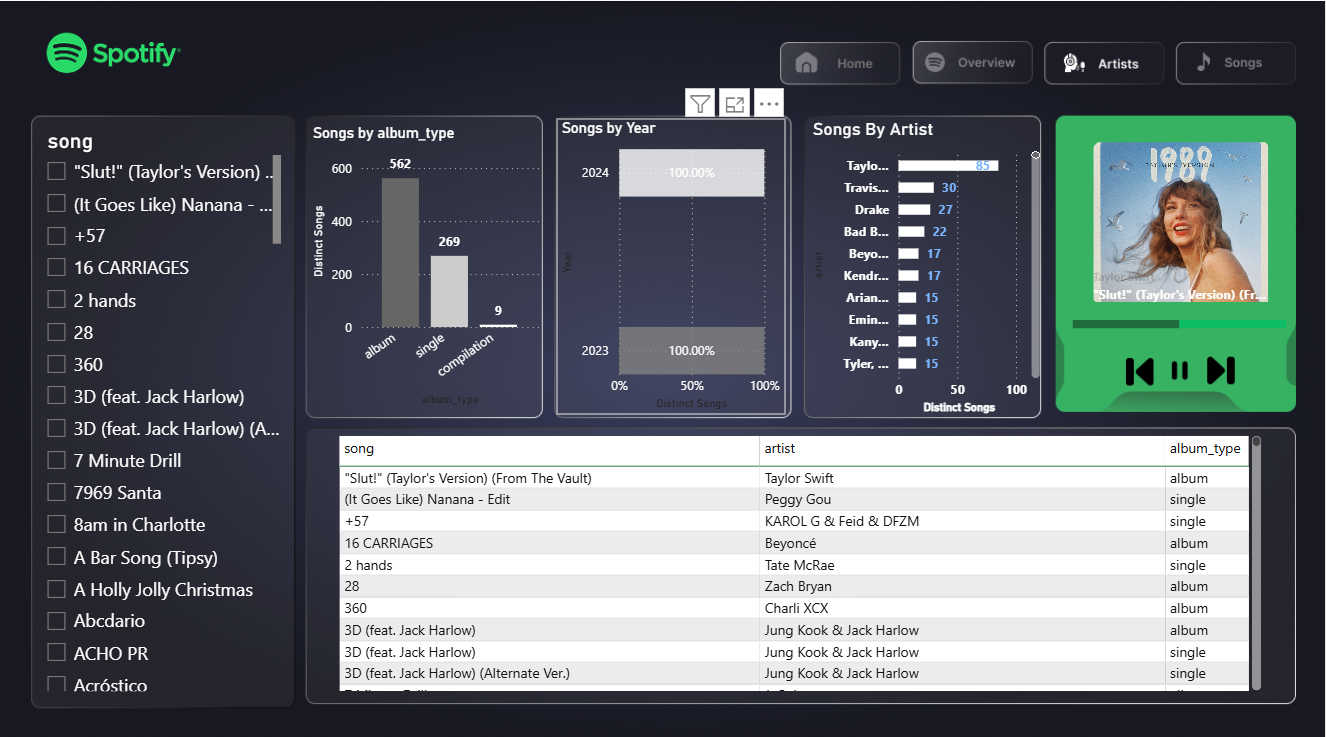

The page's visual inventory and layout, read from the dashboard file:
{"tool":"powerbi","page":{"name":"Song","canvas":[1280,720],"ordinal":2},"visuals":[{"type":"slicer","fields":{"Values":["Top-50-World.song"]},"box":[33.4,118.7,243.7,552.9],"z":0},{"type":"advancedSlicerVisual","title":"Song And Artist","fields":{"Values":["Top-50-World.song"]},"box":[1010,110.3,261.8,207.5],"z":1000},{"type":"hundredPercentStackedBarChart","fields":{"Y":["_Measures.Average Popularity","Avg(Top-50-World.popularity)"]},"box":[1031.5,276.3,216,65.1],"z":2000},{"type":"image","box":[1081,342.1,40,30],"z":3000},{"type":"image","box":[1159.6,341.9,39.8,30.2],"z":4000},{"type":"image","box":[1119.8,341.9,39.8,30.2],"z":5000},{"type":"clusteredColumnChart","title":" Songs by album_type","fields":{"Category":["Top-50-World.album_type"],"Y":["_Measures.Distinct Songs"]},"box":[298,118.2,228,277.5],"z":6000},{"type":"hundredPercentStackedBarChart","title":" Songs by Year","fields":{"Category":["Top-50-World.date.Variation.Date Hierarchy.Year"],"Y":["_Measures.Distinct Songs"]},"box":[538.1,113.4,220.8,285.9],"z":7000},{"type":"clusteredBarChart","title":" Songs By Artist","fields":{"Y":["_Measures.Distinct Songs"],"Category":["Top-50-World.artist"]},"box":[780.6,113.4,229.2,289.5],"z":8000},{"type":"tableEx","fields":{"Values":["Top-50-World.song","Top-50-World.artist","Top-50-World.album_type"]},"box":[322.1,415,901.2,255.8],"z":10000}]}

Visuals, with their boxes in screenshot pixels (x1, y1, x2, y2), scaled from the page's 1280x720 canvas onto the 1326x737 screenshot:
slicer - Top-50-World.song: <bbox>35, 122, 287, 687</bbox>
"Song And Artist" advancedSlicerVisual: <bbox>1046, 113, 1318, 325</bbox>
hundredPercentStackedBarChart - _Measures.Average Popularity x Avg(Top-50-World.popularity): <bbox>1069, 283, 1292, 349</bbox>
image: <bbox>1120, 350, 1161, 381</bbox>
image: <bbox>1201, 350, 1243, 381</bbox>
image: <bbox>1160, 350, 1201, 381</bbox>
" Songs by album_type" clusteredColumnChart: <bbox>309, 121, 545, 405</bbox>
" Songs by Year" hundredPercentStackedBarChart: <bbox>557, 116, 786, 409</bbox>
" Songs By Artist" clusteredBarChart: <bbox>809, 116, 1046, 412</bbox>
tableEx - Top-50-World.song x Top-50-World.artist: <bbox>334, 425, 1267, 687</bbox>
